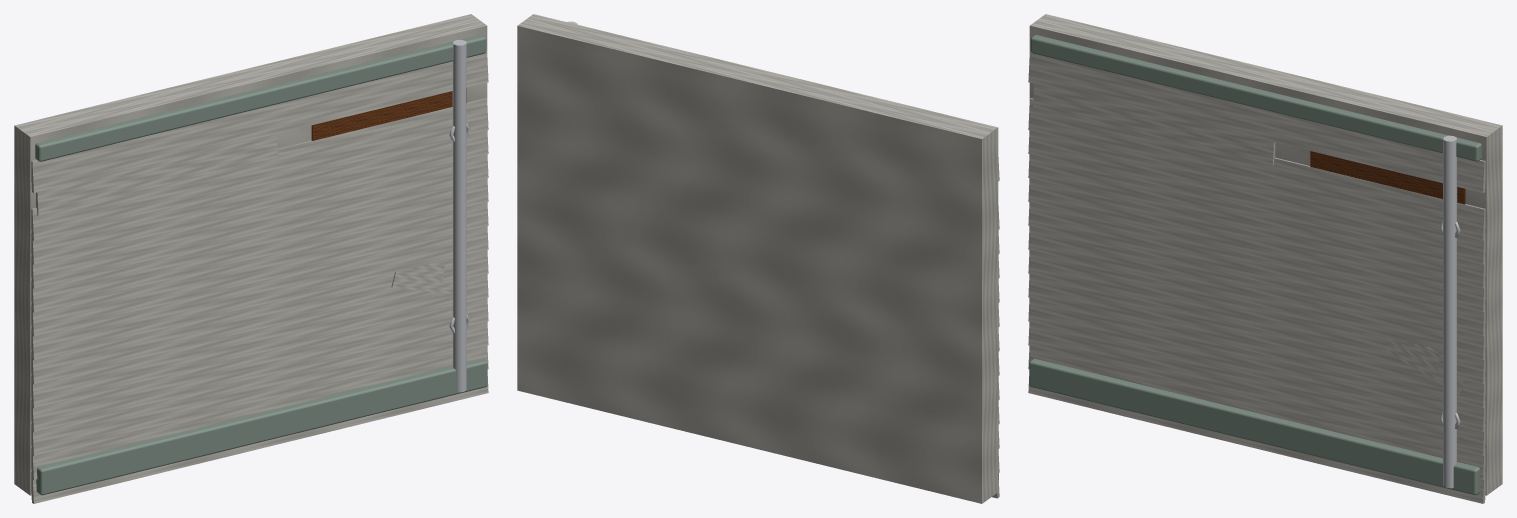
File: halloween-slasher-street-upper-floor-wall-bay-388645c4__27264.glb
The picture shows the model from 3 angles, left to right: view 1: azimuth 30°, elevation 25°; view 2: azimuth 150°, elevation 25°; view 3: azimuth 330°, elevation 25°; orthographic projection.
Parts seen in each view (by area): view 1: upper-floor-wall-bay; view 2: upper-floor-wall-bay; view 3: upper-floor-wall-bay.
Boxes of the visible parts, x1,y1,x2,y2 form: upper-floor-wall-bay: [14, 14, 488, 503]; upper-floor-wall-bay: [517, 14, 999, 503]; upper-floor-wall-bay: [1028, 14, 1502, 503].
Size of the model in its own units: 4 by 3.06 by 0.365.
4 materials, 2 textured.
